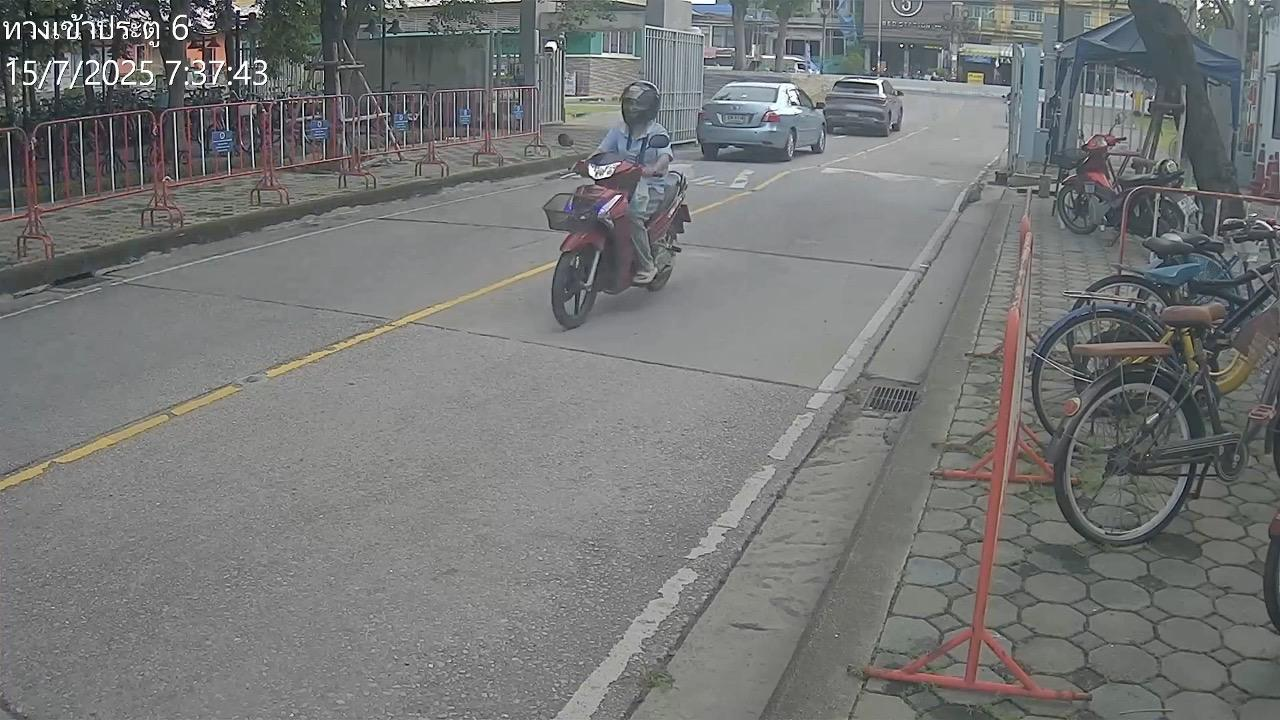With-Helmet: (617, 80, 662, 123)
